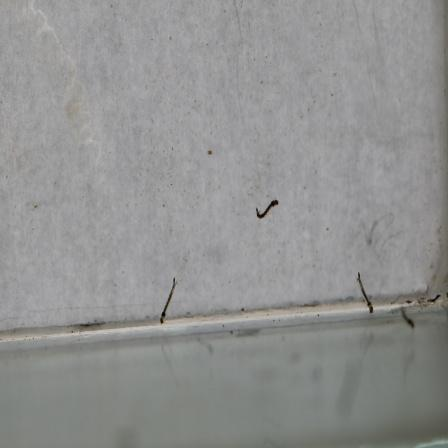Jentik-Nyamuk: (157, 274, 180, 328), (353, 270, 375, 316), (253, 197, 282, 223)
